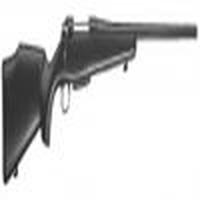gun: (2, 11, 200, 188)
